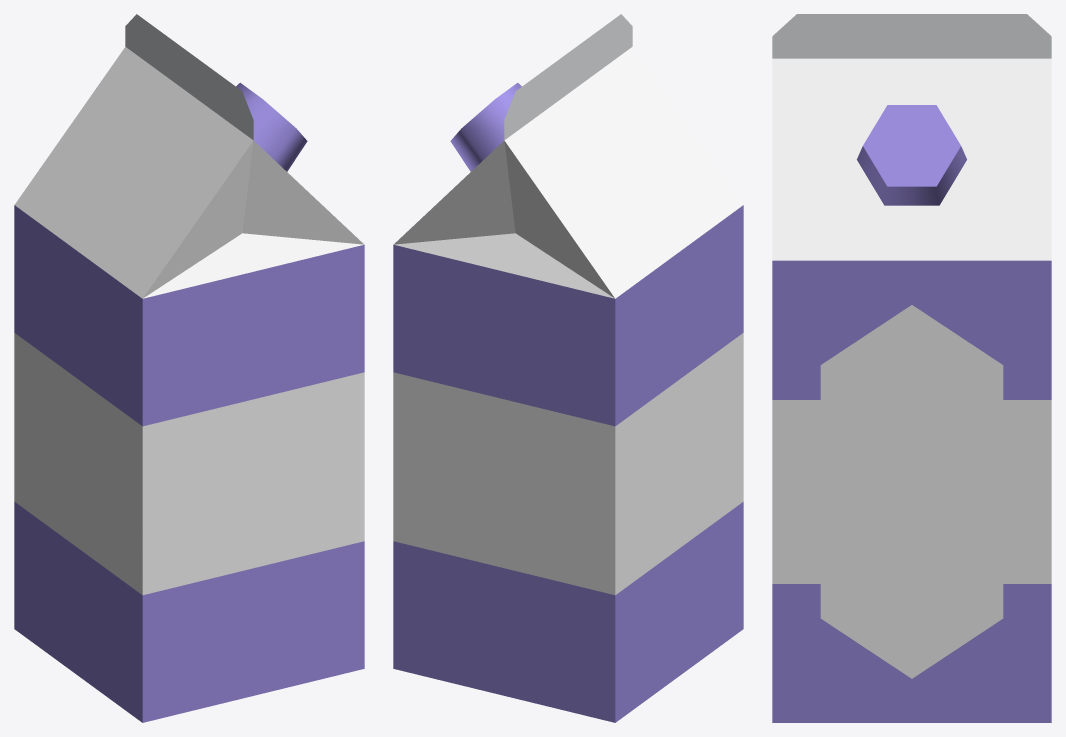
File: carton.gltf
The picture shows the model from 3 angles, left to right: view 1: azimuth 30°, elevation 25°; view 2: azimuth 150°, elevation 25°; view 3: azimuth 270°, elevation 25°; orthographic projection. The views are drawn at different scales.
Parts seen in each view (by area): view 1: carton; view 2: carton; view 3: carton.
Boxes of the visible parts, x1,y1,x2,y2 form: carton: [14, 14, 364, 722]; carton: [393, 14, 743, 722]; carton: [772, 14, 1051, 722].
Bounding box in the file's own units: 0.23 × 0.5905 × 0.23.
